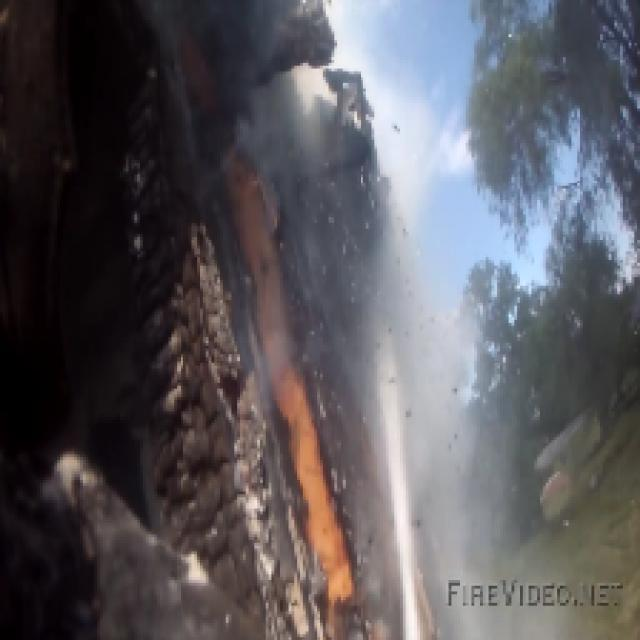Smoke: (146, 0, 463, 640)
